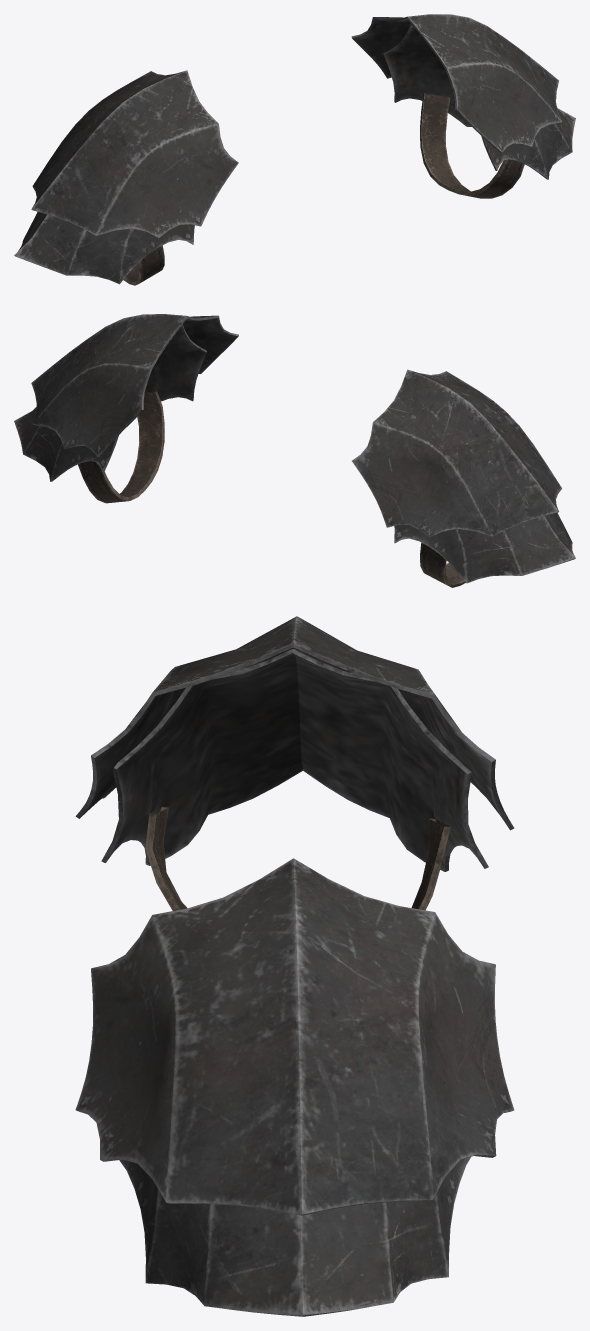
File: sk_uruk_mordor_pauldron_heavy_a.fbx
The picture shows the model from 3 angles, top to bottom: view 1: azimuth 30°, elevation 25°; view 2: azimuth 150°, elevation 25°; view 3: azimuth 270°, elevation 25°; orthographic projection. The views are drawn at different scales.
Parts seen in each view (by area): view 1: sk_uruk_mordor_pauldron_heavy_a.1, sk_uruk_mordor_pauldron_heavy_a.0; view 2: sk_uruk_mordor_pauldron_heavy_a.1, sk_uruk_mordor_pauldron_heavy_a.0; view 3: sk_uruk_mordor_pauldron_heavy_a.1, sk_uruk_mordor_pauldron_heavy_a.0.
Boxes of the visible parts, x1,y1,x2,y2 form: sk_uruk_mordor_pauldron_heavy_a.1: (14, 14, 575, 284); sk_uruk_mordor_pauldron_heavy_a.0: (123, 93, 524, 285); sk_uruk_mordor_pauldron_heavy_a.1: (14, 314, 575, 583); sk_uruk_mordor_pauldron_heavy_a.0: (78, 390, 465, 587); sk_uruk_mordor_pauldron_heavy_a.1: (75, 616, 514, 1316); sk_uruk_mordor_pauldron_heavy_a.0: (145, 807, 450, 910).
Bounding box in the file's own units: 0.9279 × 0.3139 × 0.3069.
Materials: 2 (2 with a texture image).
